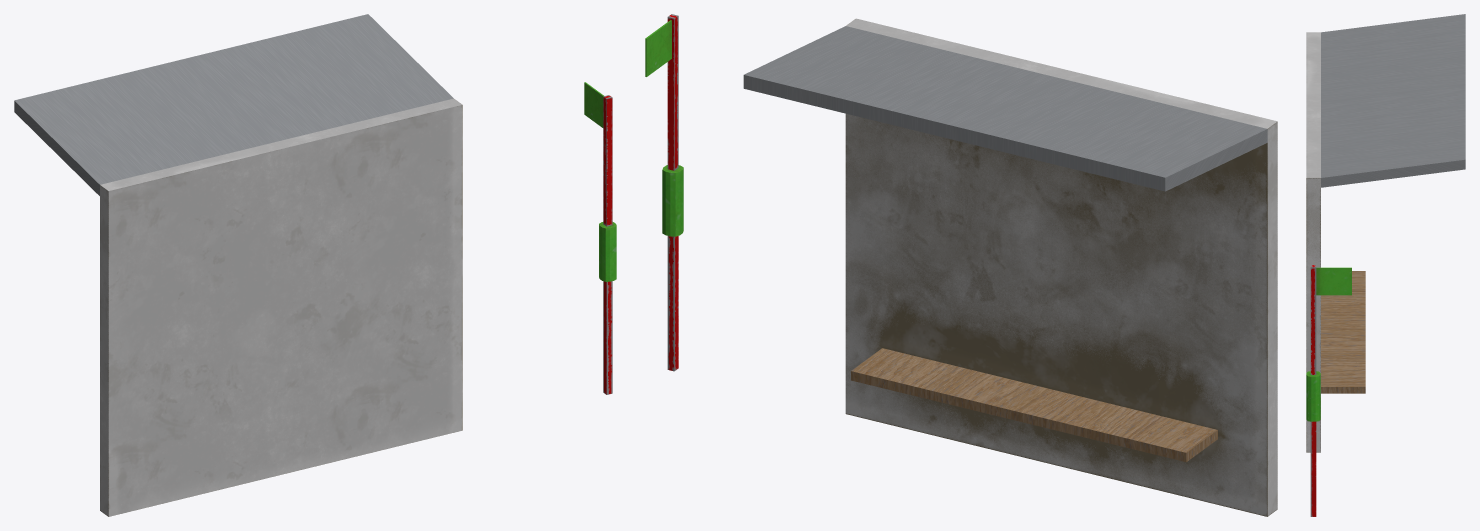
Rendered from BusStop.fbx.
3 views of the same model, side by side, from view 1: azimuth 30°, elevation 25°; view 2: azimuth 150°, elevation 25°; view 3: azimuth 270°, elevation 25° (orthographic). The views are drawn at different scales.
Parts seen in each view (by area): view 1: Cube.002; view 2: Cube.002; view 3: Cube.002.
Part boxes in pixels (x1,y1,x2,y2): Cube.002: (14,14,616,516); Cube.002: (645,14,1277,516); Cube.002: (1306,14,1465,516).
Size of the model in its own units: 361 by 236 by 116.
